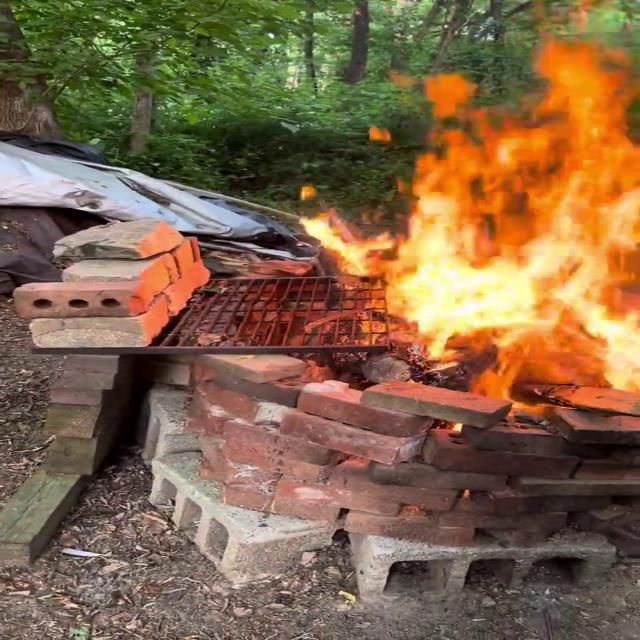Fire: (296, 34, 638, 392)
